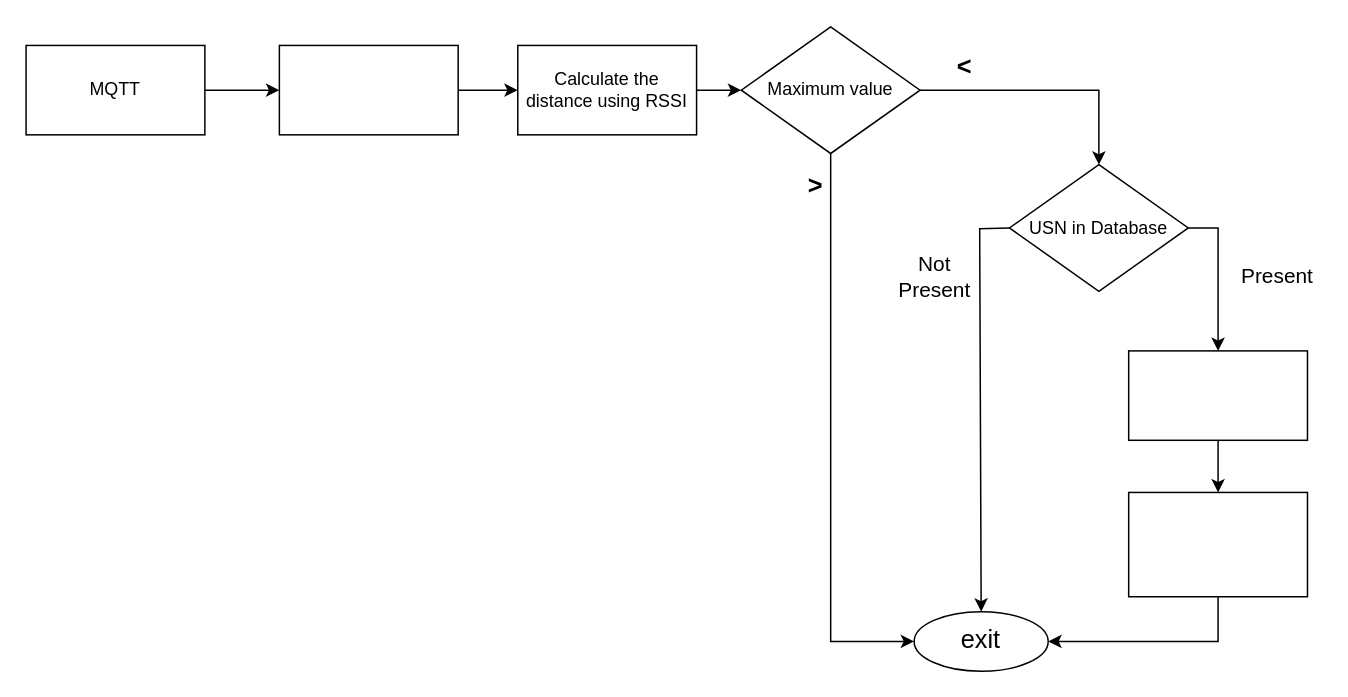
This 1348x697 diagram has some shape labels left out. The centre of each missing label's shape, as x and y in pixels:
"Raise the flag to 'P'" goes at pixel 1217 394.
"Slicing the string" goes at pixel 368 89.
"Store Attendance in a JSON and CSV file" goes at pixel 1217 544.
